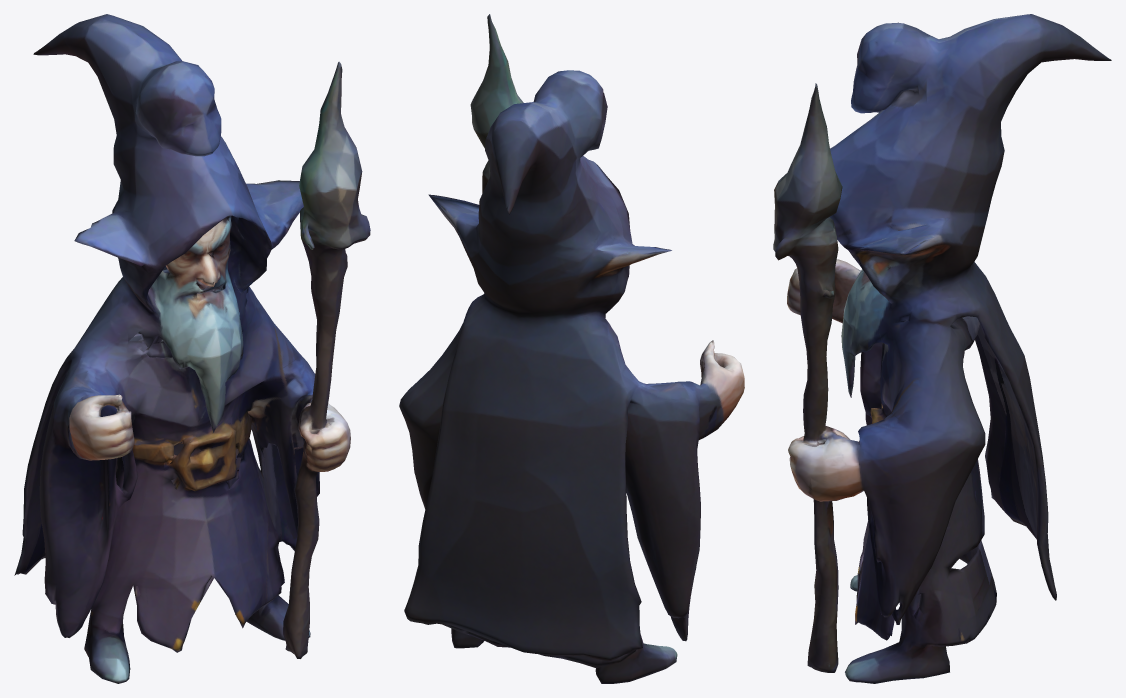
File: wizard.fbx
3 renders of one model, left to right at view 1: azimuth 30°, elevation 25°; view 2: azimuth 150°, elevation 25°; view 3: azimuth 270°, elevation 25°, orthographic. The views are drawn at different scales.
Parts seen in each view (by area): view 1: Mesh1_Mesh1.038; view 2: Mesh1_Mesh1.038; view 3: Mesh1_Mesh1.038.
Part boxes in pixels (box(x1,y1,x2,y2)): Mesh1_Mesh1.038: box(14, 14, 370, 683); Mesh1_Mesh1.038: box(399, 14, 744, 683); Mesh1_Mesh1.038: box(773, 14, 1111, 683).
Size of the model in its own units: 97.16 by 196 by 99.14.
Materials: 1 (1 with a texture image).
